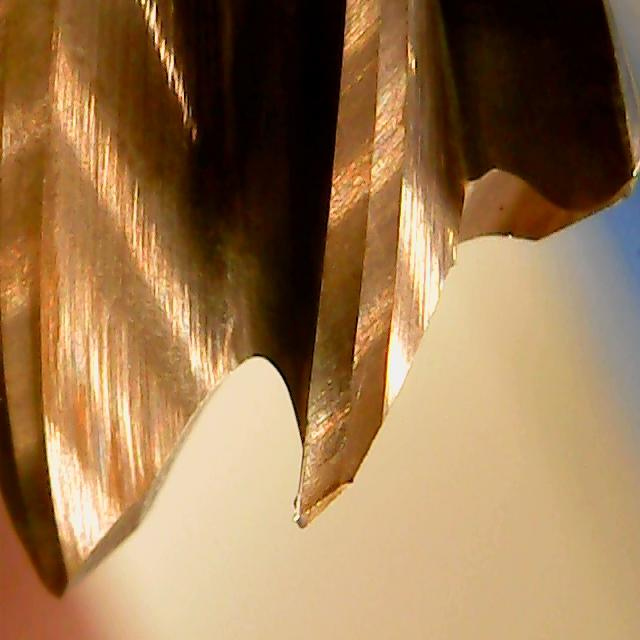Tool-wear-class-1: (270, 334, 386, 538)
